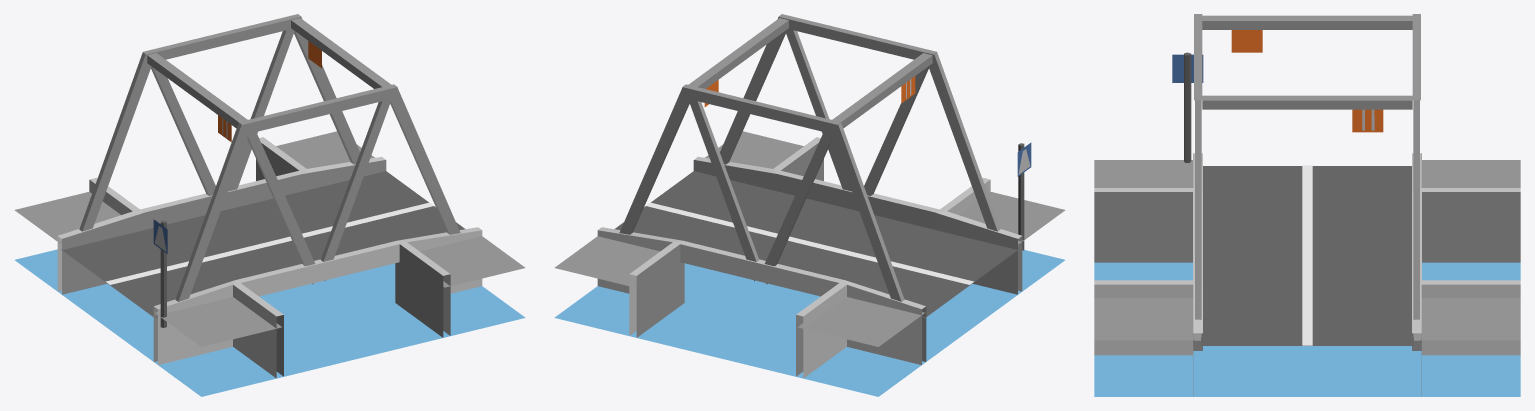
Rendered from Bridge_Tile_3.fbx.
The picture shows the model from 3 angles, left to right: view 1: azimuth 30°, elevation 25°; view 2: azimuth 150°, elevation 25°; view 3: azimuth 270°, elevation 25°; orthographic projection. The views are drawn at different scales.
Visible parts, largest first — view 1: Bridge_Road_3, Bridge_Wall_3_3, Bridge_Wall_3_2, Bridge_Wall_3_1, Bridge_Sign_3_1; view 2: Bridge_Road_3, Bridge_Wall_3_2, Bridge_Wall_3_3, Bridge_Wall_3_1, Bridge_Sign_3_1; view 3: Bridge_Road_3, Bridge_Wall_3_2, Bridge_Wall_3_3, Bridge_Wall_3_1, Bridge_Sign_3_1.
Boxes of the visible parts, x1,y1,x2,y2 form: Bridge_Road_3: (14, 131, 525, 396); Bridge_Wall_3_3: (153, 88, 482, 378); Bridge_Wall_3_2: (57, 18, 386, 294); Bridge_Wall_3_1: (143, 14, 397, 142); Bridge_Sign_3_1: (153, 219, 167, 327); Bridge_Road_3: (554, 131, 1065, 396); Bridge_Wall_3_2: (597, 88, 926, 378); Bridge_Wall_3_3: (693, 18, 1022, 294); Bridge_Wall_3_1: (682, 14, 936, 135); Bridge_Sign_3_1: (1017, 142, 1031, 250); Bridge_Road_3: (1094, 160, 1520, 396); Bridge_Wall_3_2: (1412, 100, 1520, 396); Bridge_Wall_3_3: (1094, 100, 1202, 396); Bridge_Wall_3_1: (1194, 14, 1420, 132); Bridge_Sign_3_1: (1172, 52, 1203, 163).
Size of the model in its own units: 4 by 2.59 by 4.
